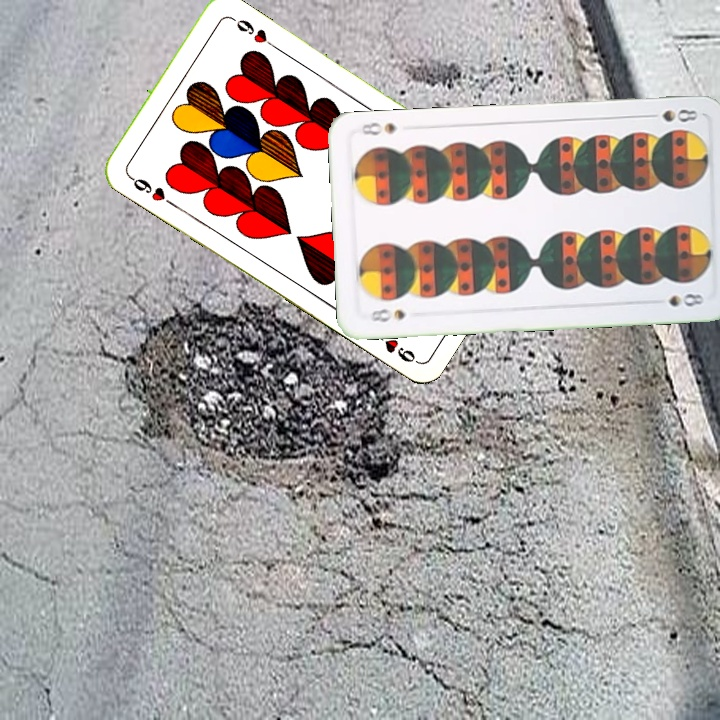H9: (123, 169, 175, 208)
S8: (641, 104, 701, 125), (366, 304, 408, 325)
